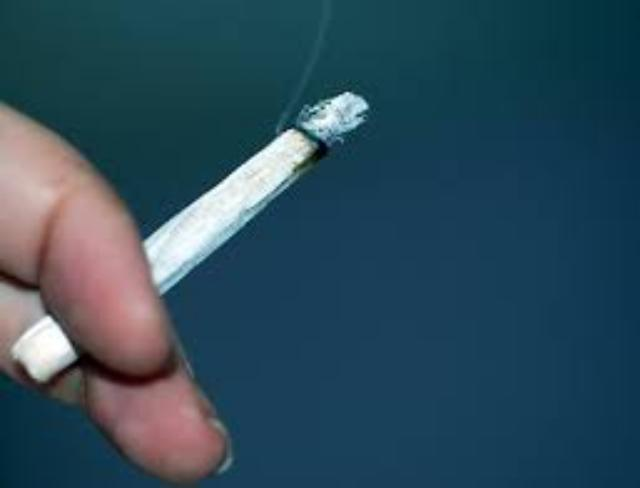Smoking: (11, 89, 371, 385)
